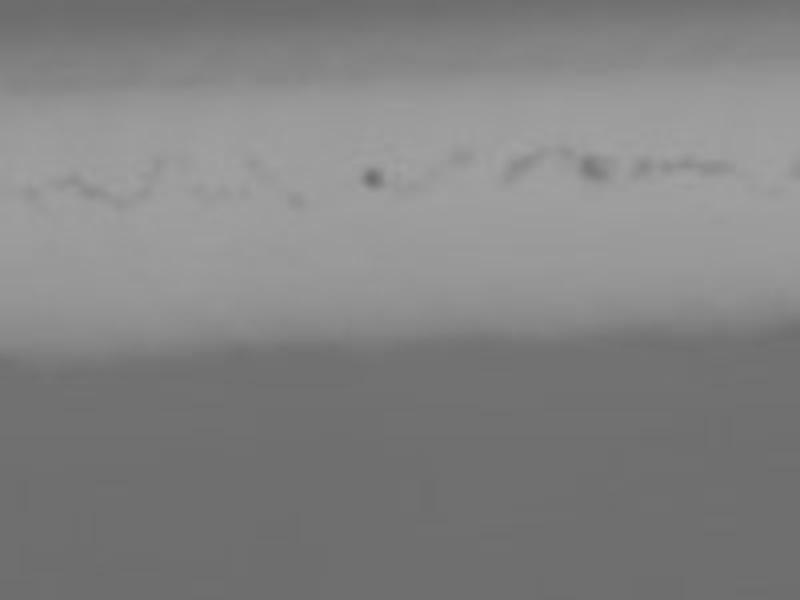defect: (499, 150, 541, 178), (578, 152, 615, 181), (693, 157, 738, 177), (386, 170, 422, 192), (448, 145, 474, 169), (147, 153, 171, 178), (280, 189, 306, 210), (361, 166, 385, 188), (207, 182, 230, 203), (53, 172, 83, 188), (625, 158, 650, 176), (133, 181, 153, 203), (81, 185, 108, 201), (19, 182, 39, 202), (668, 152, 691, 169), (243, 156, 267, 172), (552, 142, 572, 158), (658, 155, 673, 176), (185, 180, 203, 197), (236, 182, 254, 198), (112, 195, 129, 210)
